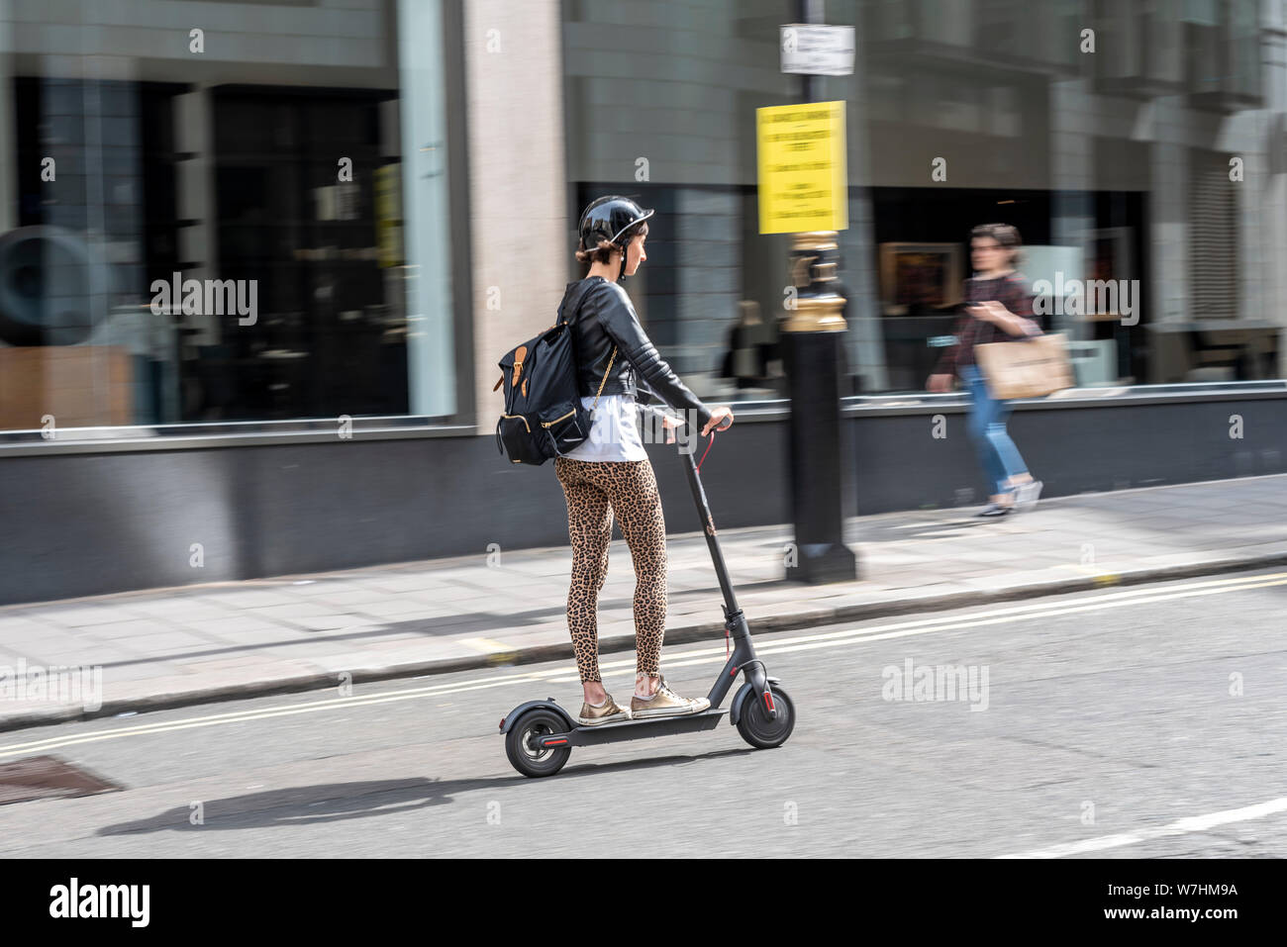helmet: (554, 172, 683, 285)
human: (490, 175, 734, 726)
kickboard: (499, 690, 800, 788)
